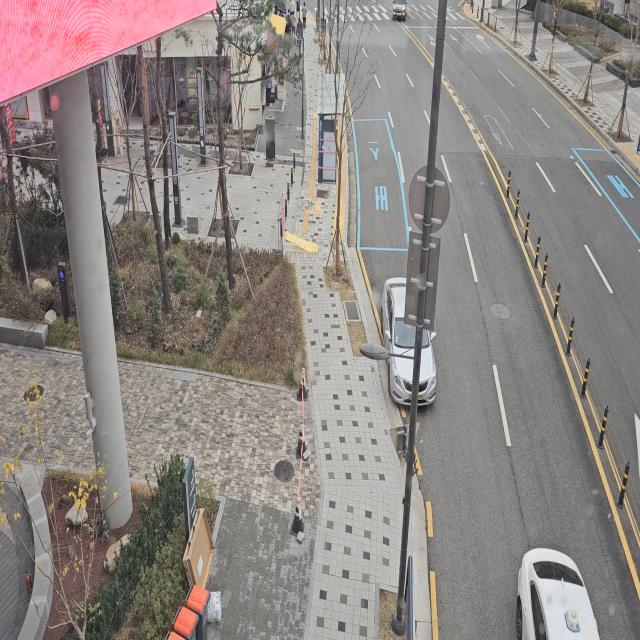Car: (375, 259, 453, 420), (494, 533, 604, 640), (384, 0, 414, 25)
